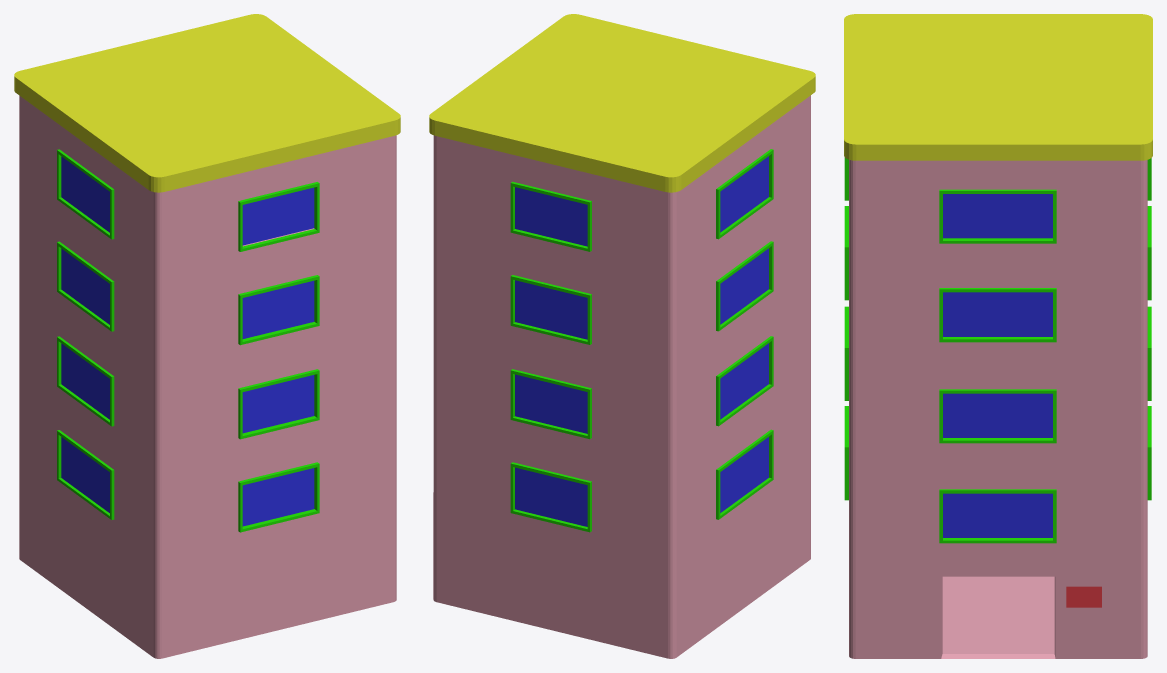
The model's file is Oficinas.fbx.
3 views of the same model, side by side, from view 1: azimuth 30°, elevation 25°; view 2: azimuth 150°, elevation 25°; view 3: azimuth 270°, elevation 25° (orthographic). The views are drawn at different scales.
Parts seen in each view (by area): view 1: Cube.028; view 2: Cube.028; view 3: Cube.028.
Boxes of the visible parts, <box> form: Cube.028: <box>14,14,400,658</box>; Cube.028: <box>429,14,815,658</box>; Cube.028: <box>844,14,1152,658</box>.
Bounding box in the file's own units: 96.57 × 178 × 96.57.
